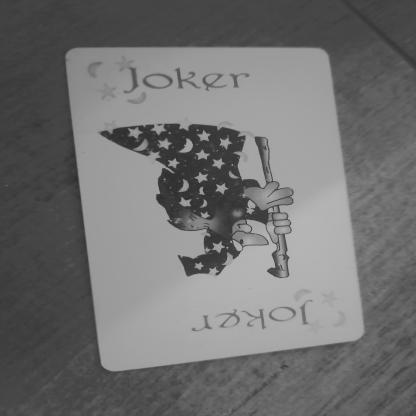BLACK JOKER: (162, 288, 366, 346), (66, 57, 266, 107)
